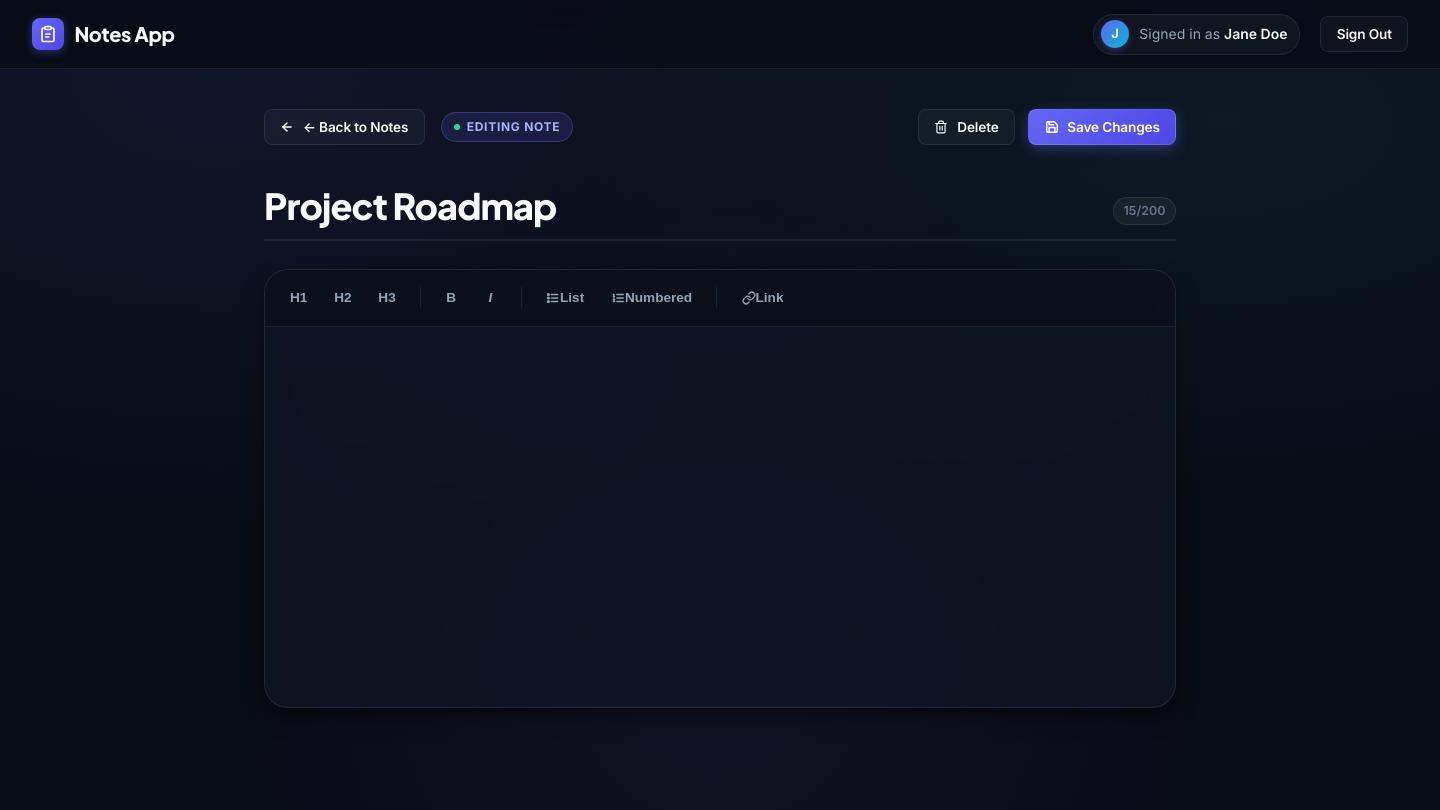
Scenario: Rich Text Note Editor Feature › handles delete confirmation modal cancel and confirm flows with Escape key and redirect
The image size is (1440, 810).
Expected: the field showing "Project Roadmap" next to "15" is shown, [264, 173, 1176, 241]
Click the button with test id "delete-note-button" at (967, 127), box [918, 109, 1015, 145]
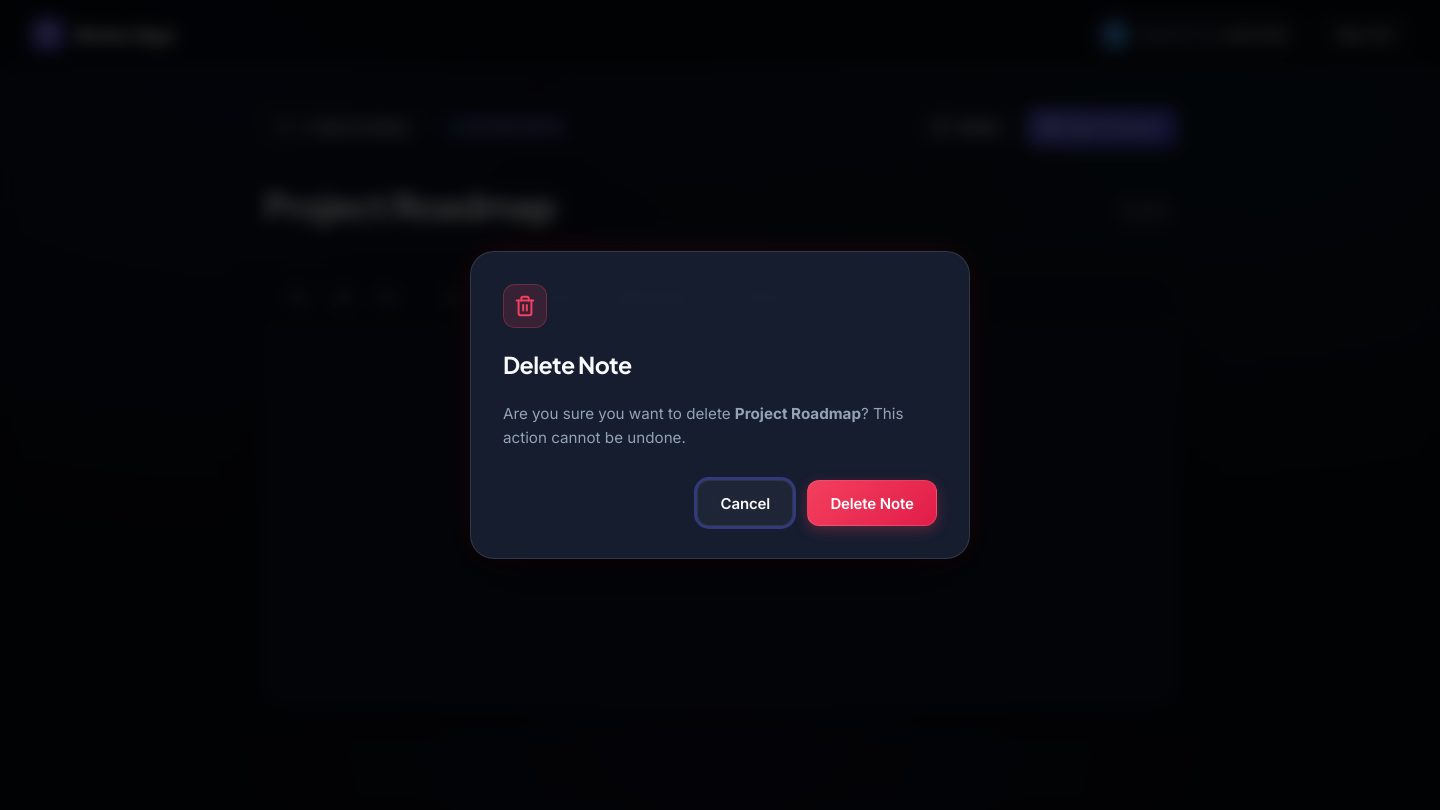
Expected: the dialog with test id "delete-confirm-modal" is shown, [470, 251, 970, 559]
Expected: the text "Are you sure you want to delete" is shown, [503, 404, 735, 423]
Press Escape
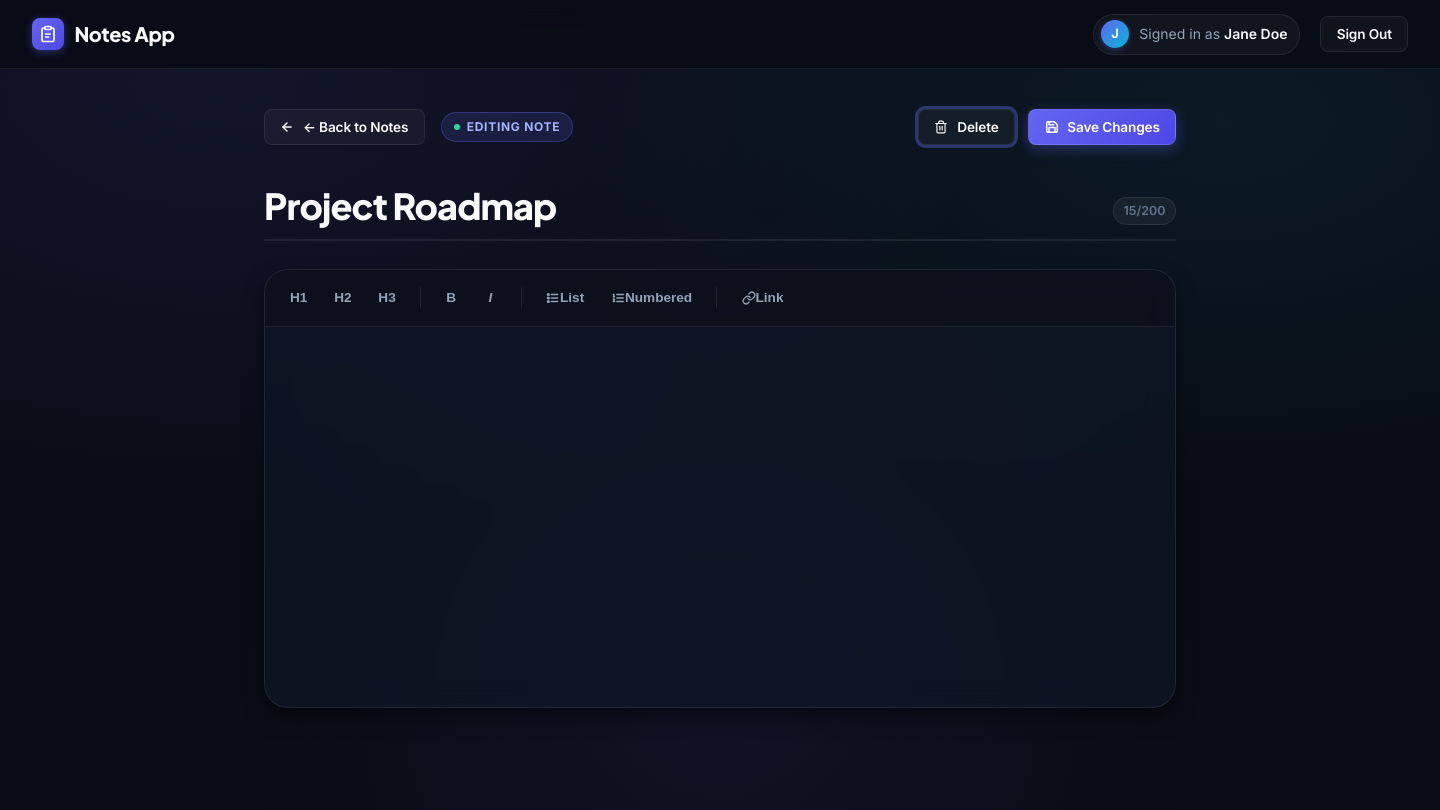
Expected: the dialog with test id "delete-confirm-modal" is gone
Click the button with test id "delete-note-button" at (967, 127), box [918, 109, 1015, 145]
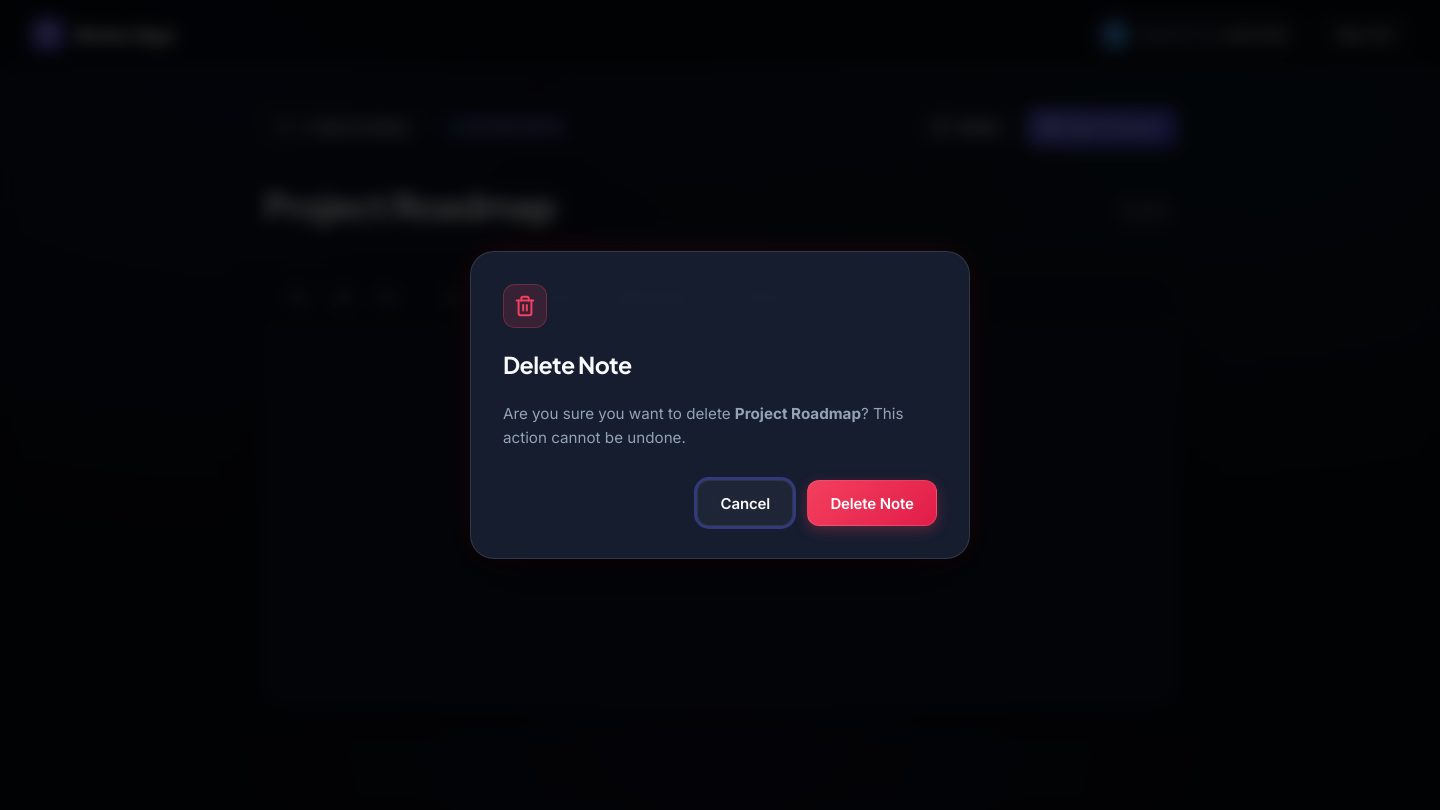
Expected: the dialog with test id "delete-confirm-modal" is shown, [470, 251, 970, 559]
Click the button with test id "cancel-delete-button" at (745, 503), box [697, 480, 794, 526]
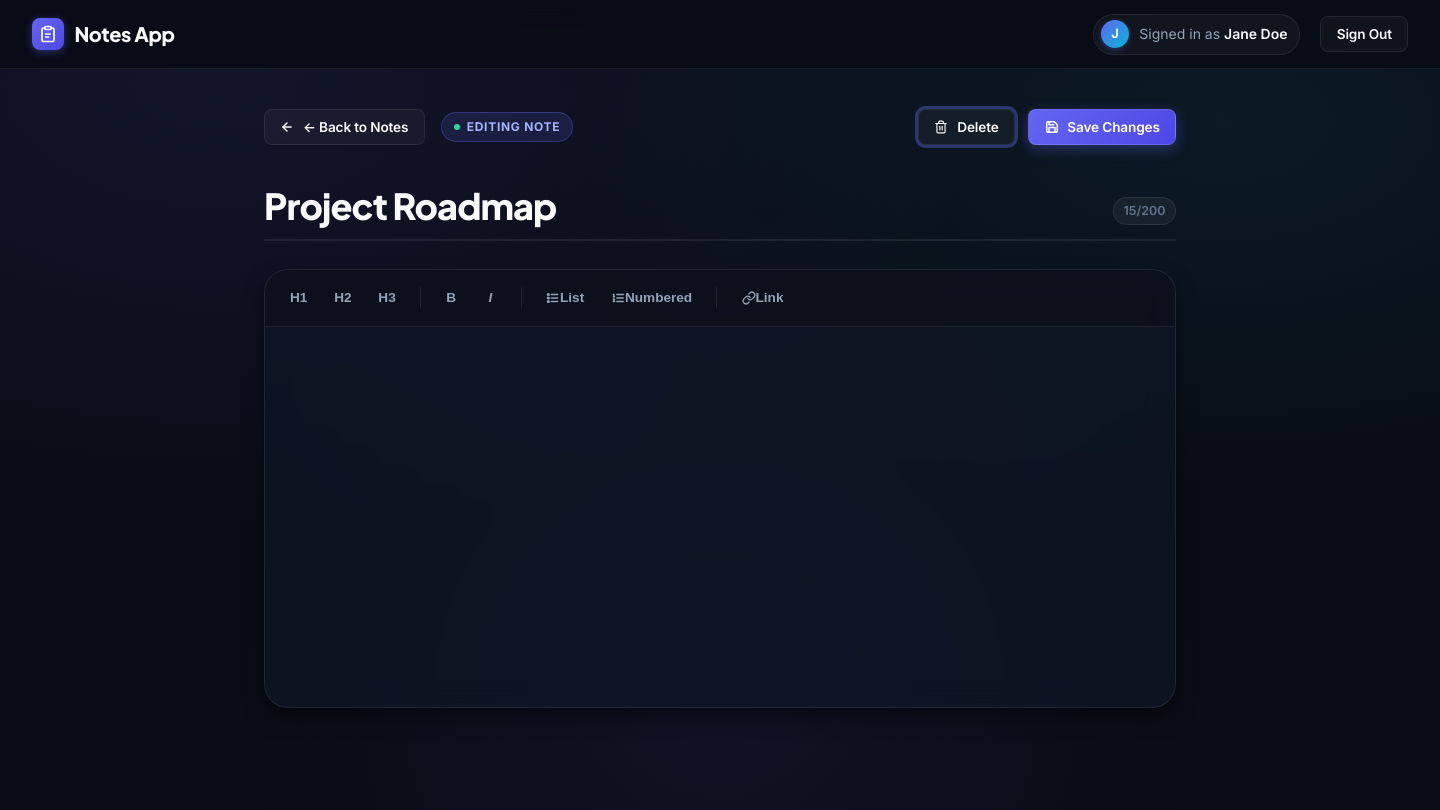
Expected: the dialog with test id "delete-confirm-modal" is gone
Click the button with test id "delete-note-button" at (967, 127), box [918, 109, 1015, 145]
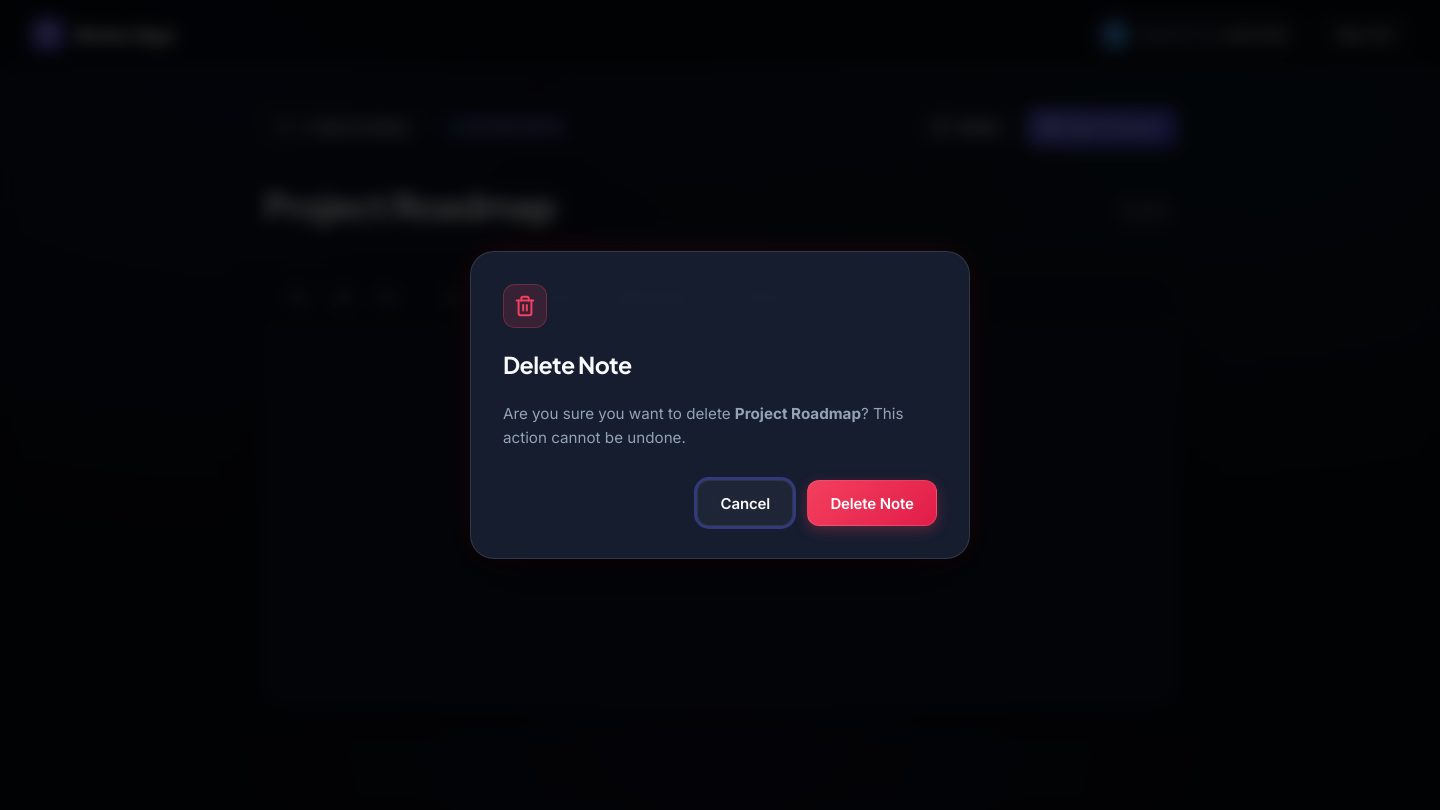
Click the button with test id "confirm-delete-button" at (872, 503), box [807, 480, 937, 526]
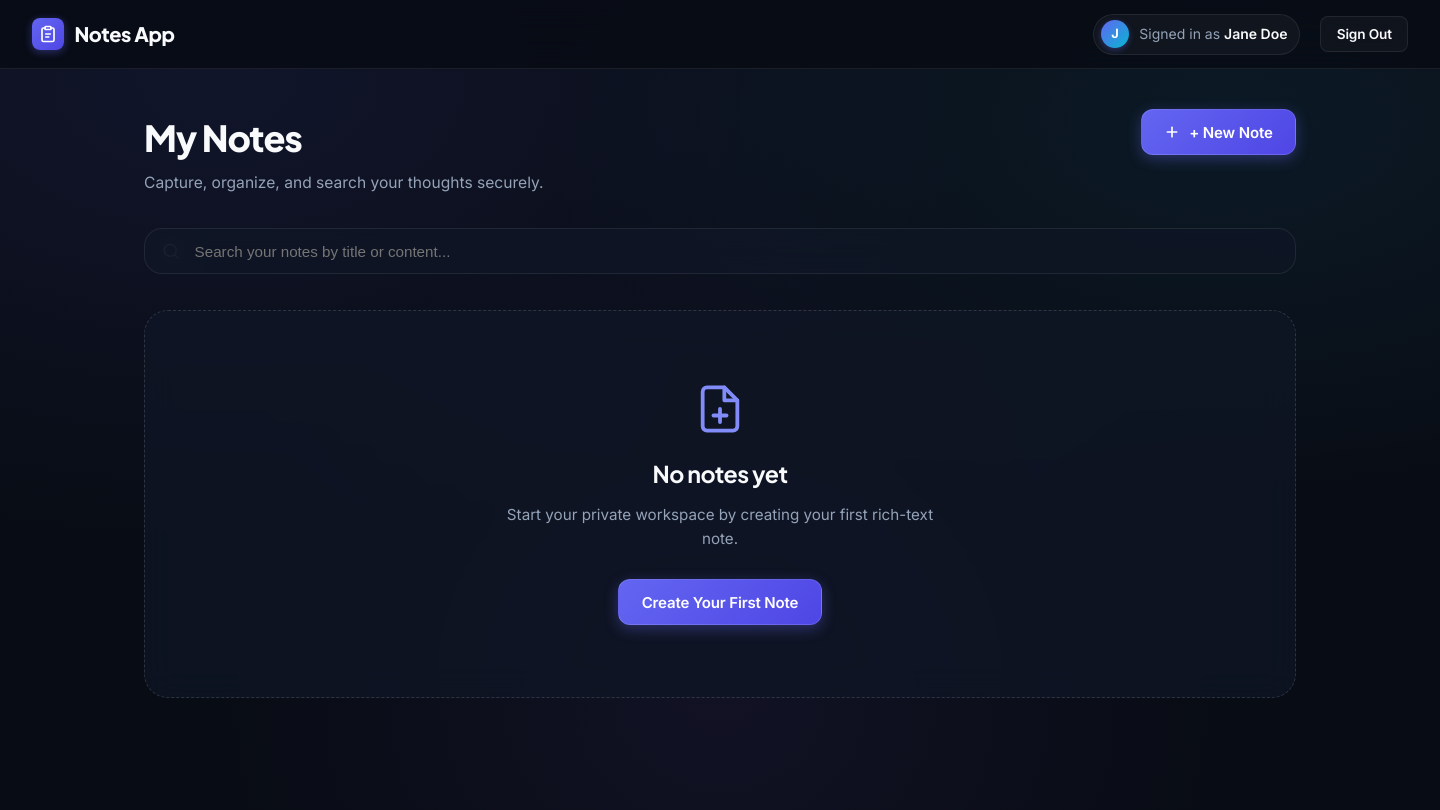
Expected: the element with test id "dashboard-page" is shown
